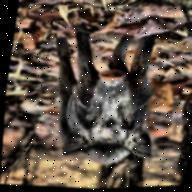boar: (23, 14, 176, 174)
